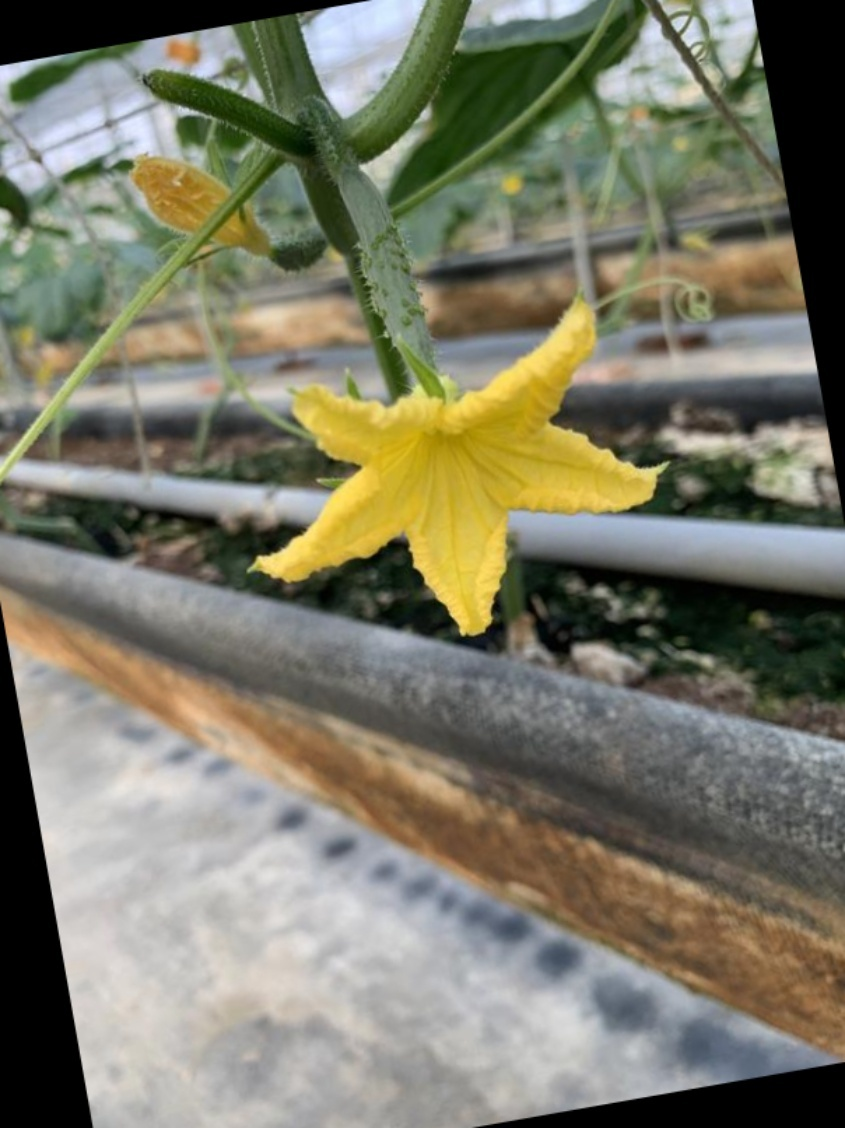flowering: (195, 136, 669, 639)
